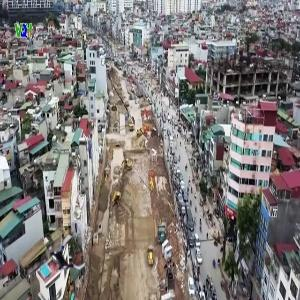drone: (48, 237, 90, 279)
